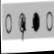correct: (31, 9, 40, 35)
not correct: (18, 11, 27, 43)
